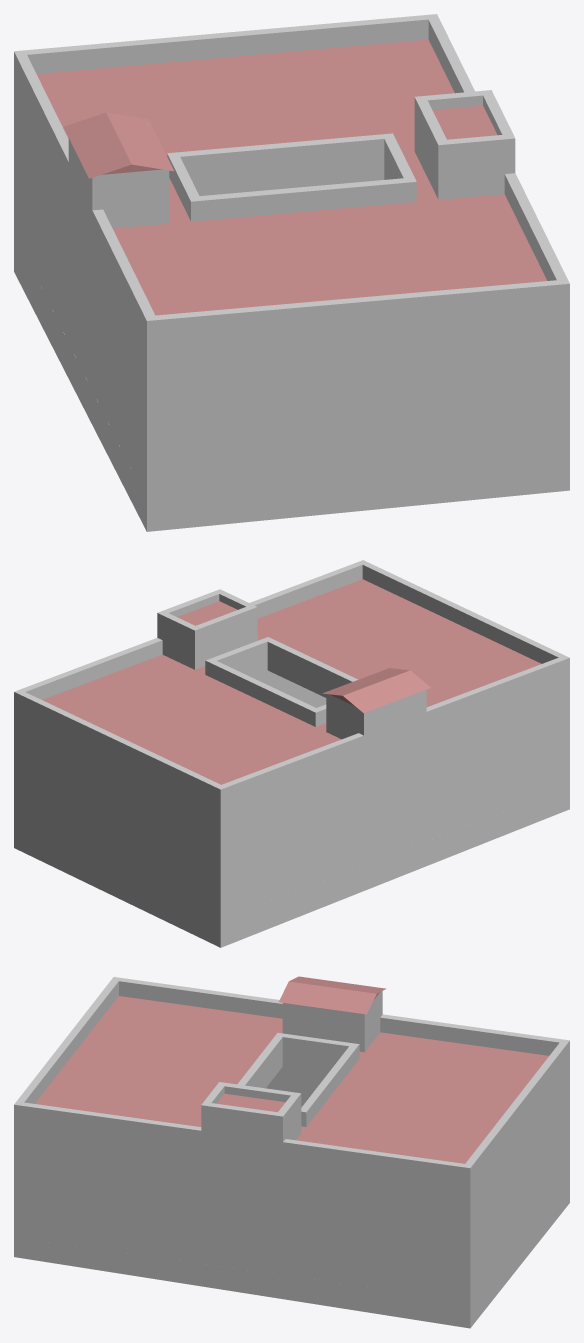
Rendered from LOD_Block_4_6.glb.
3 views of the same model, one above another, from view 1: azimuth 30°, elevation 25°; view 2: azimuth 150°, elevation 25°; view 3: azimuth 270°, elevation 25° (orthographic). The views are drawn at different scales.
Parts seen in each view (by area): view 1: mesh_CityEngineMaterial_91; view 2: mesh_CityEngineMaterial_91; view 3: mesh_CityEngineMaterial_91.
Part boxes in pixels (bbox=[...]): mesh_CityEngineMaterial_91: bbox=[14, 14, 569, 531]; mesh_CityEngineMaterial_91: bbox=[14, 560, 569, 947]; mesh_CityEngineMaterial_91: bbox=[14, 976, 569, 1328].
Bounding box in the file's own units: 27.82 × 13.22 × 34.15.
